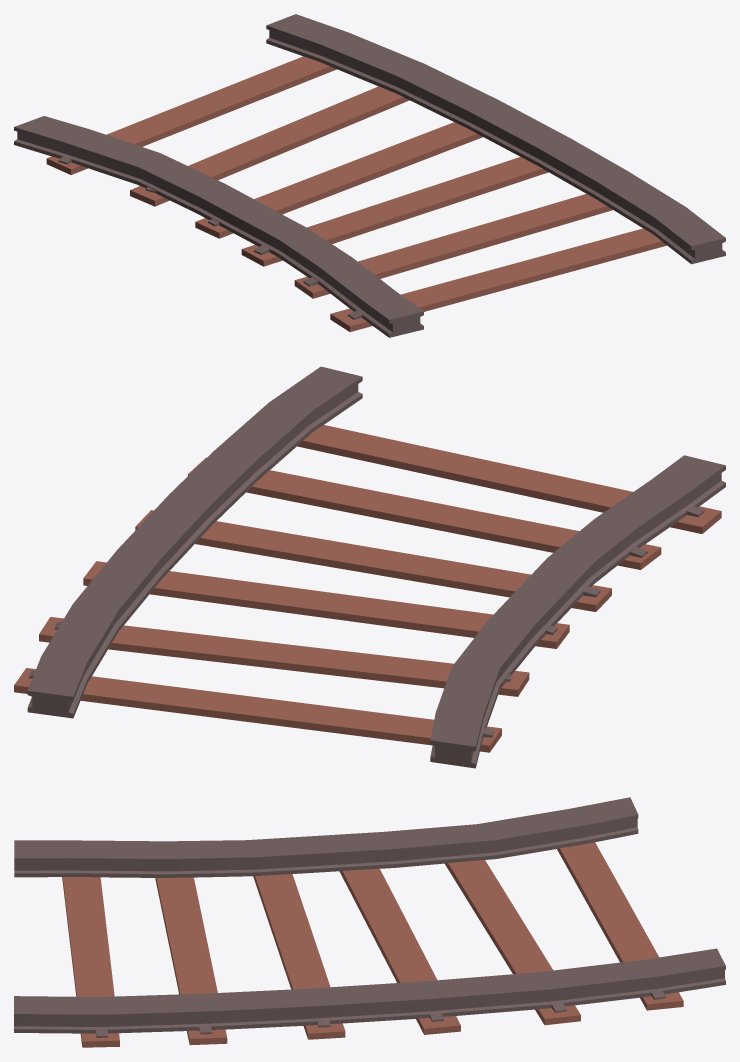
The model's file is Trilho_Curva_Menor_Esquerda.fbx.
3 renders of one model, top to bottom at view 1: azimuth 30°, elevation 25°; view 2: azimuth 150°, elevation 25°; view 3: azimuth 270°, elevation 25°, orthographic. The views are drawn at different scales.
Parts seen in each view (by area): view 1: Trilho_Curva_Menor_Esquerda; view 2: Trilho_Curva_Menor_Esquerda; view 3: Trilho_Curva_Menor_Esquerda.
Part boxes in pixels (x1,y1,x2,y2): Trilho_Curva_Menor_Esquerda: (14,14,725,337); Trilho_Curva_Menor_Esquerda: (14,366,725,768); Trilho_Curva_Menor_Esquerda: (14,797,725,1047).
Size of the model in its own units: 3.35 by 2.51 by 0.1294.
